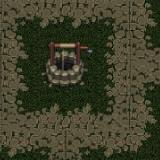Hide: (22, 23, 106, 106)
